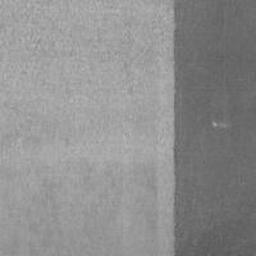Welding line: (172, 0, 182, 256)
